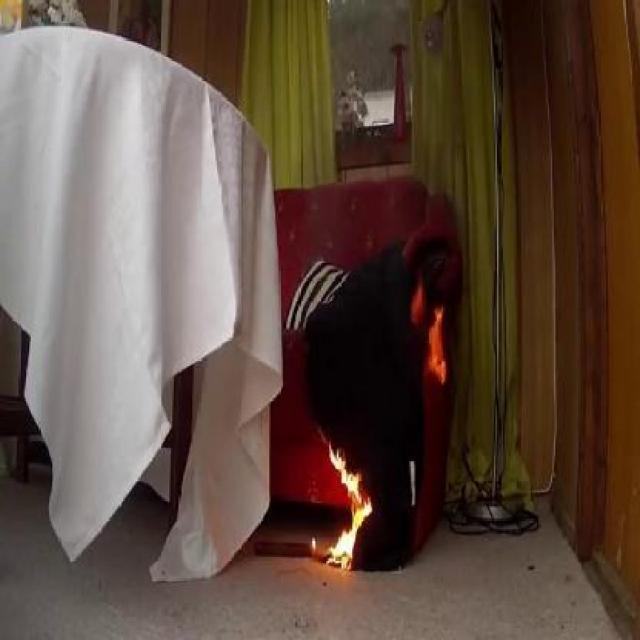fire: (296, 419, 375, 601), (414, 270, 454, 406)
